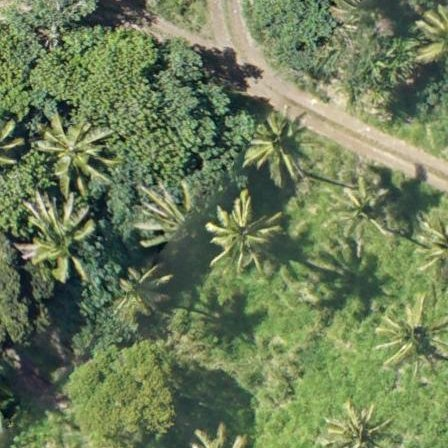palm_tree: (242, 103, 314, 180), (40, 115, 112, 192), (207, 198, 279, 271), (378, 301, 448, 375), (22, 201, 91, 275), (110, 265, 172, 324), (325, 401, 386, 448), (332, 185, 387, 237)
